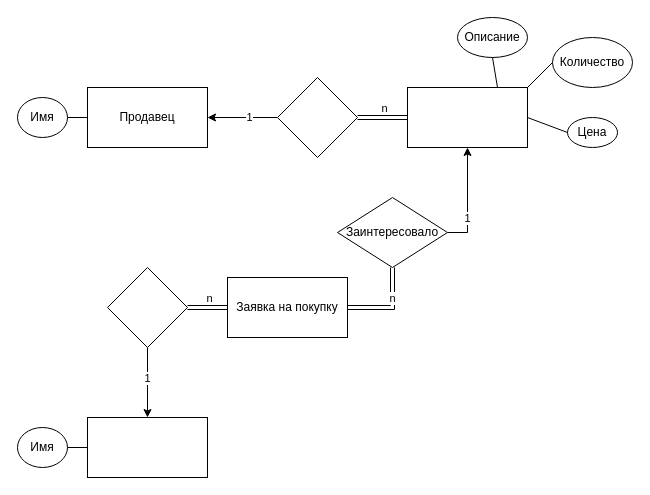
Some shapes in this 650 by 495 pixel diagram are drawn without their labels. Each missing label, with the centre of its shape:
"Оставляет" belongs at [147,307].
"Покупатель" belongs at [147,447].
"Предлагает" belongs at [317,117].
"Продукт" belongs at [467,117].
